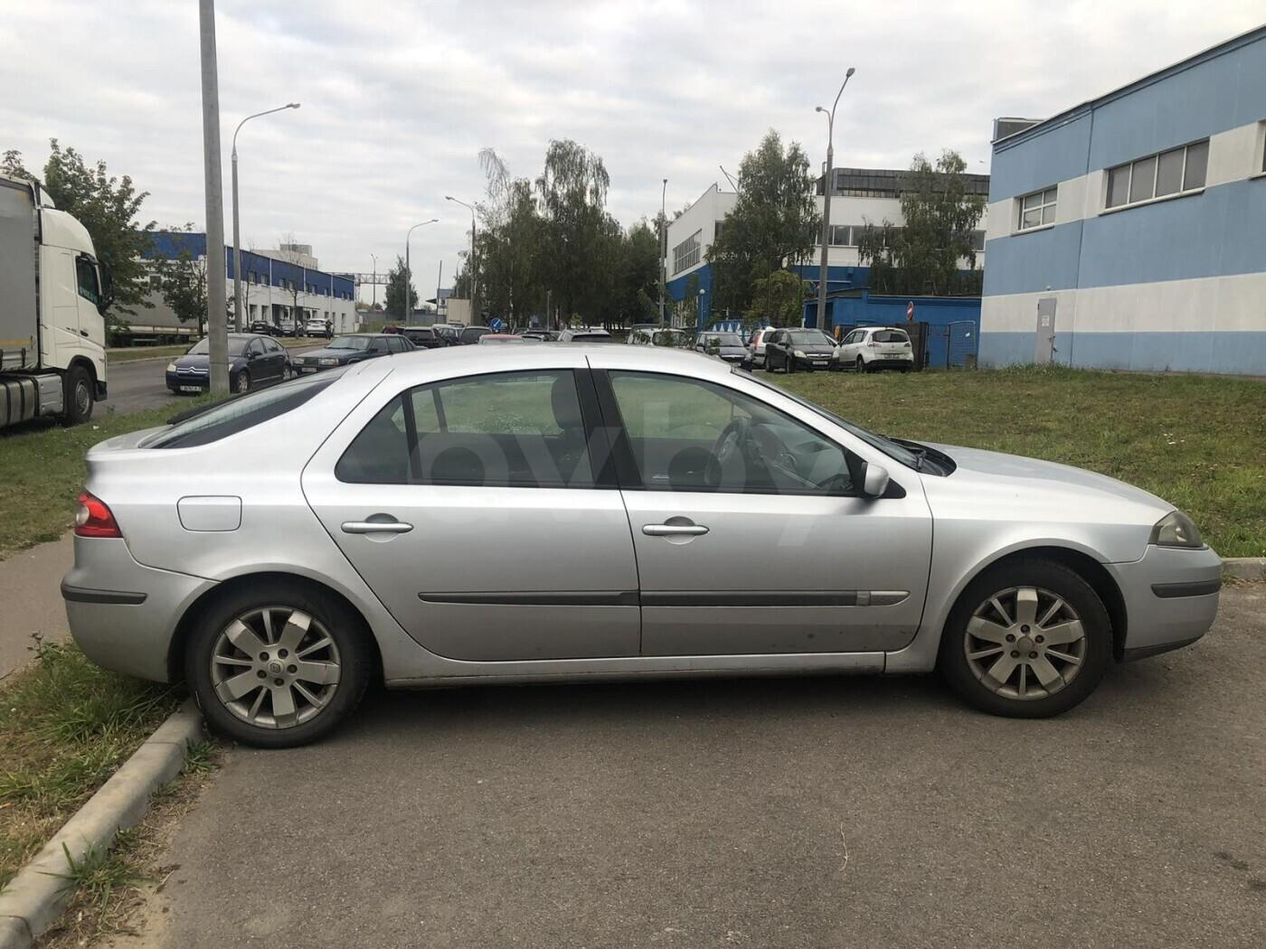Laguna_2005-2007: (56, 334, 1219, 749)
